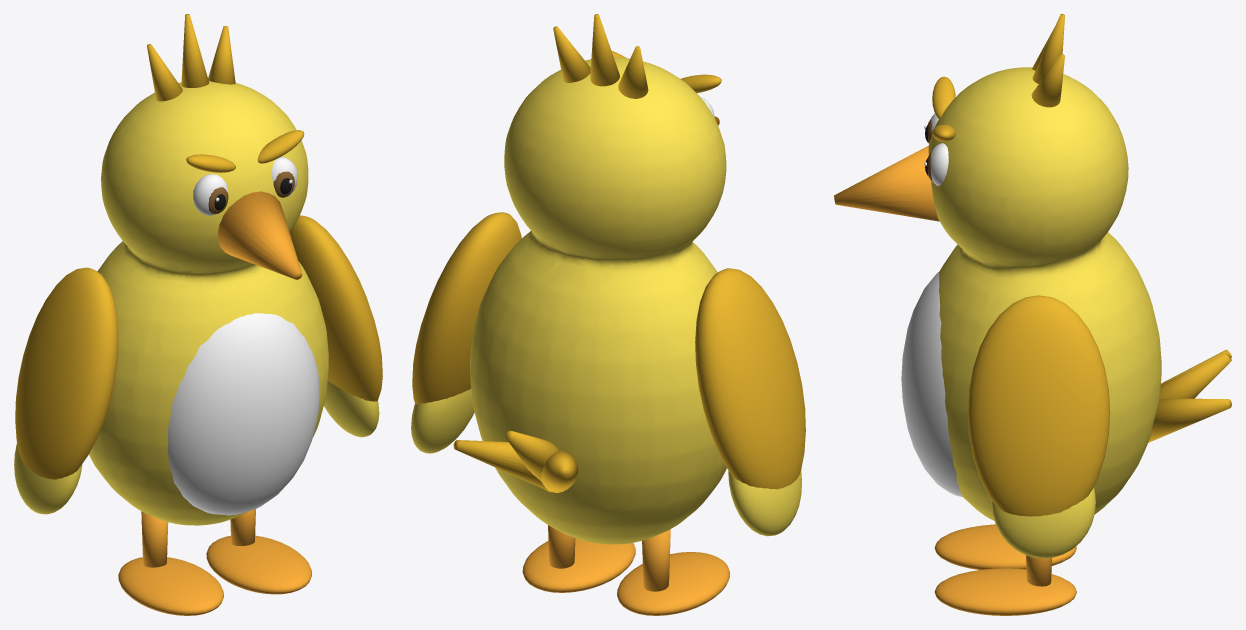
File: mascot.glb
The picture shows the model from 3 angles, left to right: view 1: azimuth 30°, elevation 25°; view 2: azimuth 150°, elevation 25°; view 3: azimuth 270°, elevation 25°; orthographic projection. The views are drawn at different scales.
Visible parts, largest first — view 1: MascotBody, WingR, WingL; view 2: MascotBody, WingR, WingL; view 3: MascotBody, WingL.
Boxes of the visible parts, x1,y1,x2,y2 form: MascotBody: [89, 14, 328, 615]; WingR: [14, 267, 118, 514]; WingL: [290, 215, 382, 437]; MascotBody: [453, 14, 729, 615]; WingR: [695, 268, 805, 536]; WingL: [411, 212, 521, 453]; MascotBody: [834, 14, 1231, 615]; WingL: [967, 295, 1110, 558].
Bounding box in the file's own units: 1.71 × 2.64 × 1.68.
